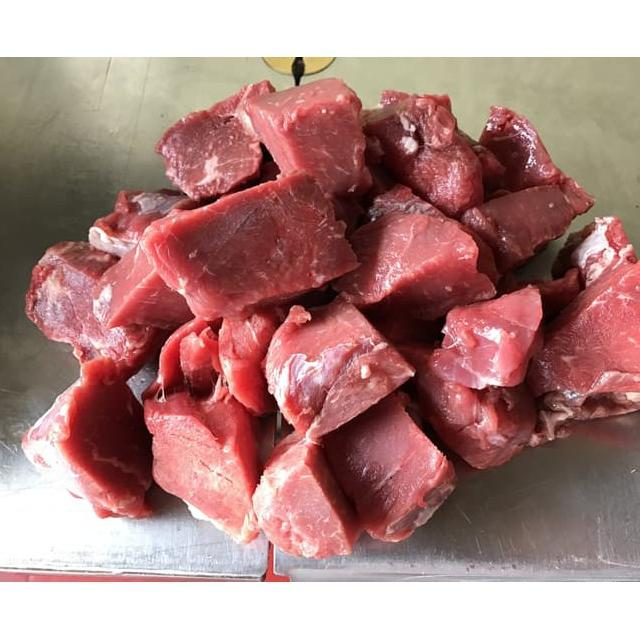beef: (128, 157, 388, 332), (0, 356, 200, 544), (126, 313, 271, 563), (506, 215, 640, 449), (446, 98, 622, 275), (319, 169, 510, 325), (13, 232, 170, 407), (302, 398, 489, 543), (248, 287, 415, 445), (129, 74, 318, 210), (234, 422, 394, 561), (347, 76, 492, 215), (235, 72, 380, 196), (424, 291, 552, 407)
